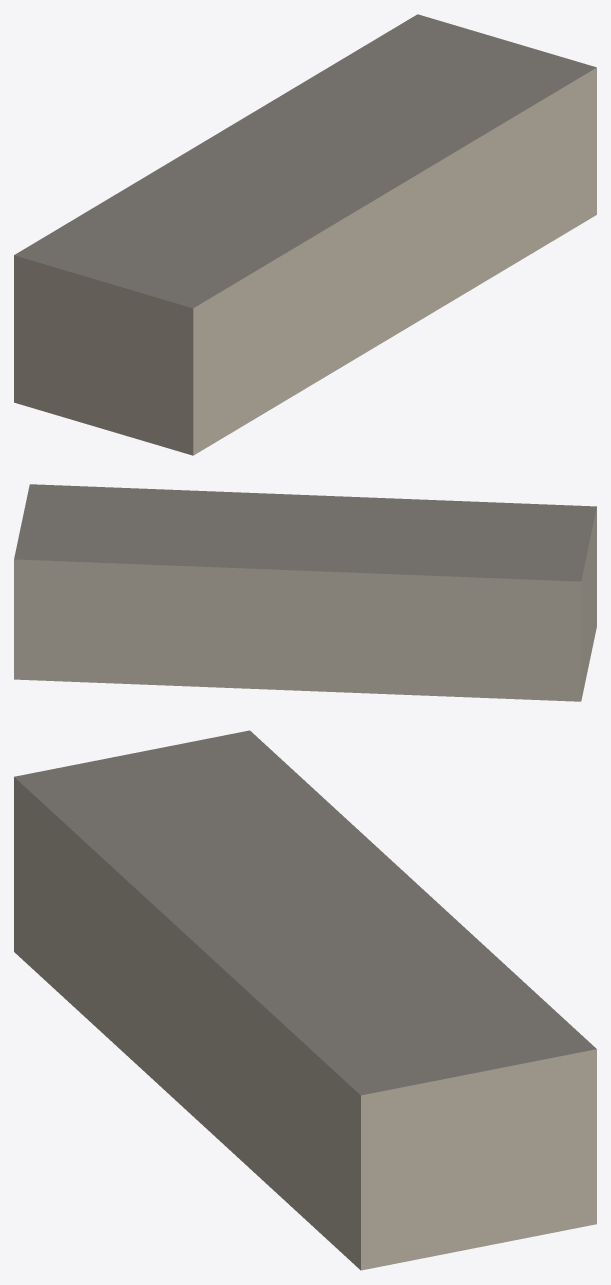
The picture shows the model from 3 angles, top to bottom: view 1: azimuth 30°, elevation 25°; view 2: azimuth 150°, elevation 25°; view 3: azimuth 270°, elevation 25°; orthographic projection. The views are drawn at different scales.
Visible parts, largest first — view 1: HP-w372180512; view 2: HP-w372180512; view 3: HP-w372180512.
Boxes of the visible parts, x1,y1,x2,y2 form: HP-w372180512: (14, 14, 596, 455); HP-w372180512: (14, 484, 596, 701); HP-w372180512: (14, 730, 596, 1270).
Size of the model in its own units: 80.49 by 18 by 54.32.
